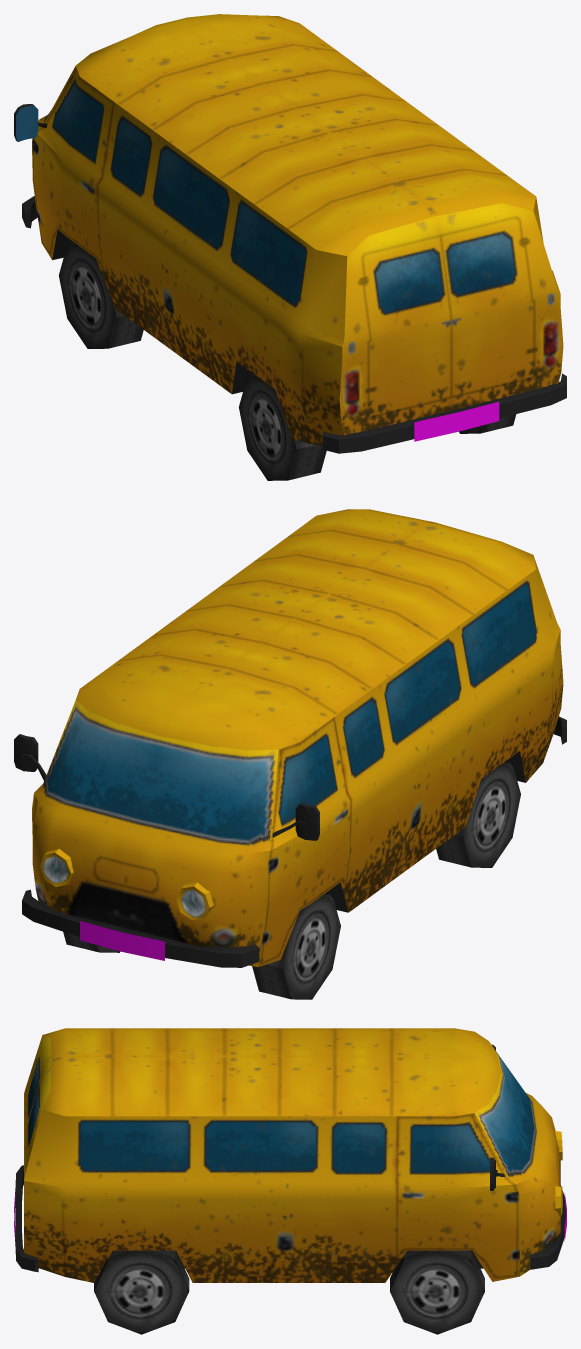
Rendered from uaz452.glb.
The picture shows the model from 3 angles, top to bottom: view 1: azimuth 30°, elevation 25°; view 2: azimuth 150°, elevation 25°; view 3: azimuth 270°, elevation 25°; orthographic projection. The views are drawn at different scales.
Visible parts, largest first — view 1: Body, Trim, WheelRL, WheelFL; view 2: Body, Trim, WheelFL, WheelRL; view 3: Body, WheelFR, WheelRR, Trim.
Boxes of the visible parts, x1,y1,x2,y2 form: Body: (32, 14, 563, 445); Trim: (14, 104, 566, 453); WheelRL: (239, 374, 326, 480); WheelFL: (59, 243, 143, 348); Body: (32, 509, 563, 966); Trim: (14, 716, 566, 967); WheelFL: (252, 893, 340, 999); WheelRL: (436, 761, 520, 867); Body: (24, 1028, 562, 1282); WheelFR: (390, 1250, 484, 1334); WheelRR: (94, 1250, 189, 1334); Trim: (14, 1044, 566, 1272).
Size of the model in its own units: 7.75 by 6.92 by 14.86.
Materials: 3 (3 with a texture image).
